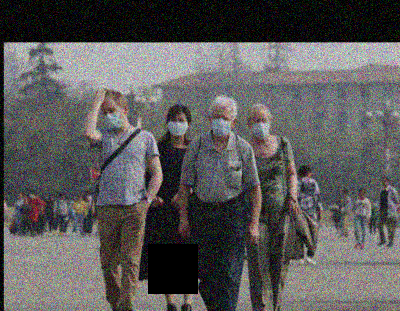with_mask: (100, 106, 123, 131), (210, 112, 232, 138), (250, 115, 270, 138), (166, 117, 188, 137)
without_mask: (382, 177, 388, 186), (359, 190, 365, 198)
